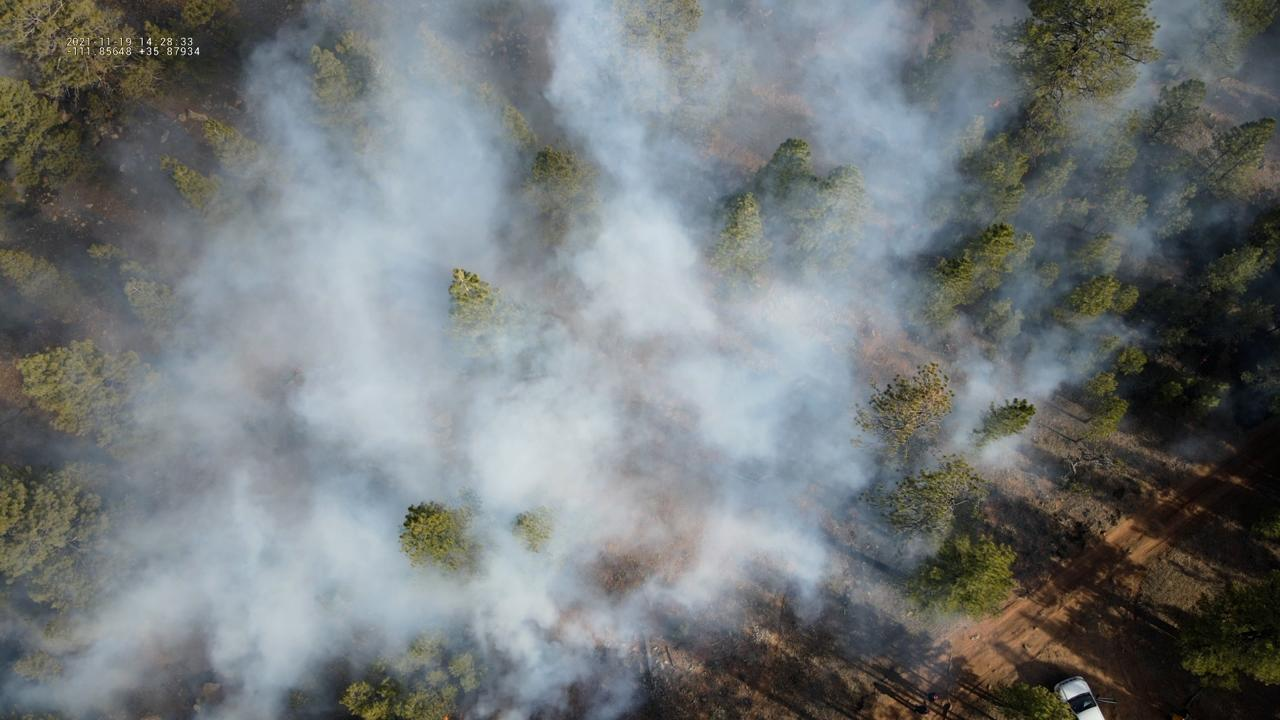fire: (986, 97, 1002, 110)
smoke: (0, 0, 1280, 720)
